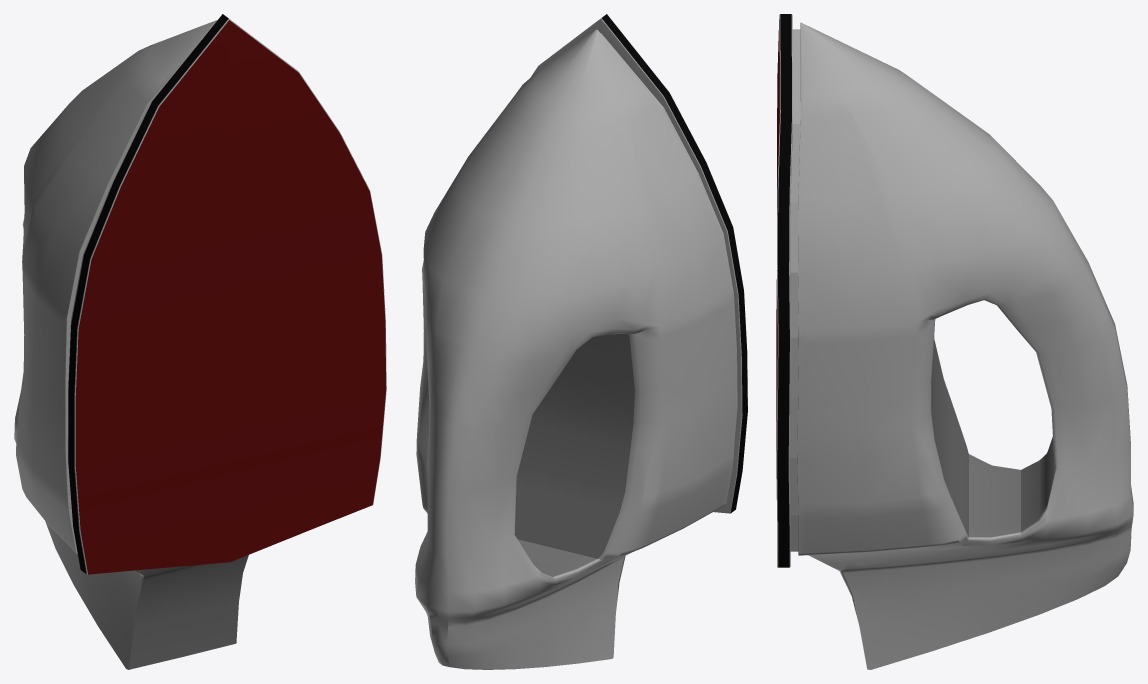
Rendered from Hot_Iron.fbx.
3 renders of one model, left to right at view 1: azimuth 30°, elevation 25°; view 2: azimuth 150°, elevation 25°; view 3: azimuth 270°, elevation 25°, orthographic. The views are drawn at different scales.
Parts seen in each view (by area): view 1: pCylinderShape24; view 2: pCylinderShape24; view 3: pCylinderShape24.
Boxes of the visible parts, bbox=[...] form: pCylinderShape24: bbox=[14, 14, 386, 669]; pCylinderShape24: bbox=[415, 14, 747, 669]; pCylinderShape24: bbox=[776, 14, 1133, 669].
Size of the model in its own units: 24.93 by 51.32 by 26.33.
Materials: 1 (1 with a texture image).
